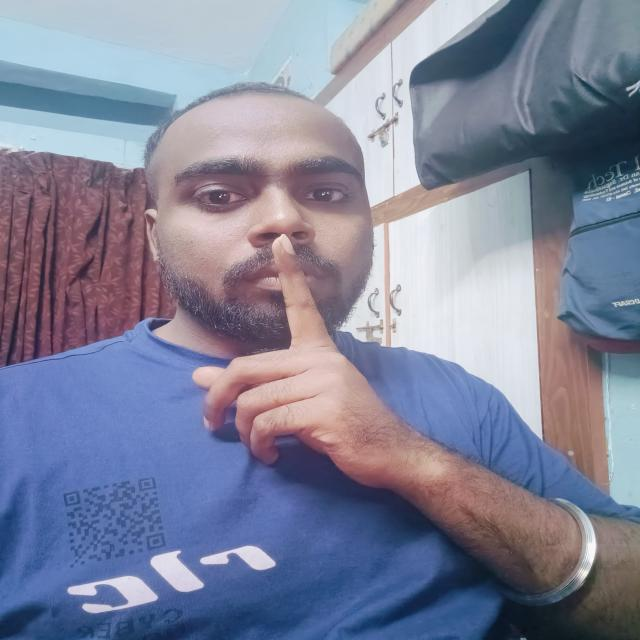is: (183, 238, 462, 484)
